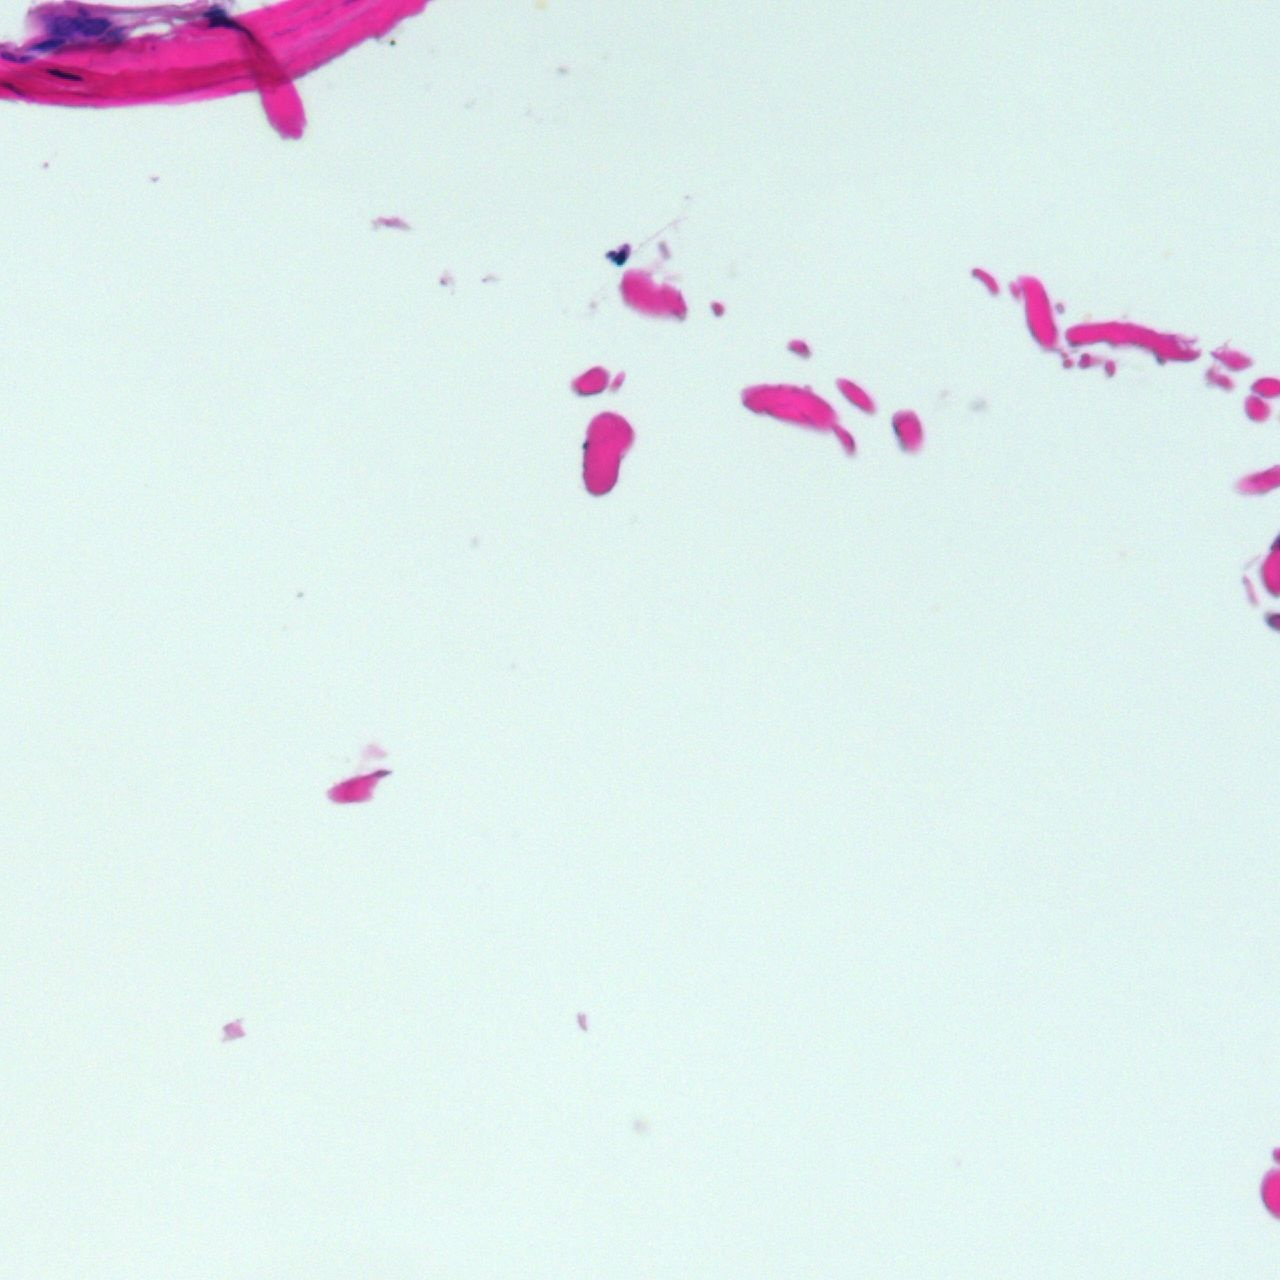dust: (602, 241, 631, 266), (388, 38, 397, 46)
nucleus-HE: (45, 64, 83, 83), (29, 36, 64, 53), (18, 55, 35, 63)
